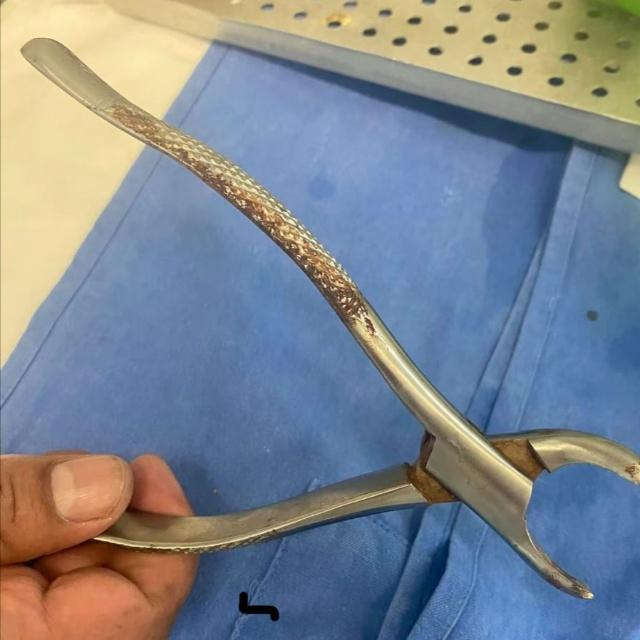forceps: (22, 38, 639, 602)
